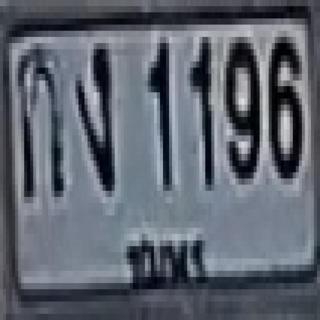A01: (15, 46, 60, 194)
A07: (75, 40, 112, 188)
N01: (187, 37, 211, 185), (148, 37, 169, 185)
N06: (266, 31, 299, 172)
N09: (223, 37, 257, 178)
P14: (118, 223, 214, 295)
